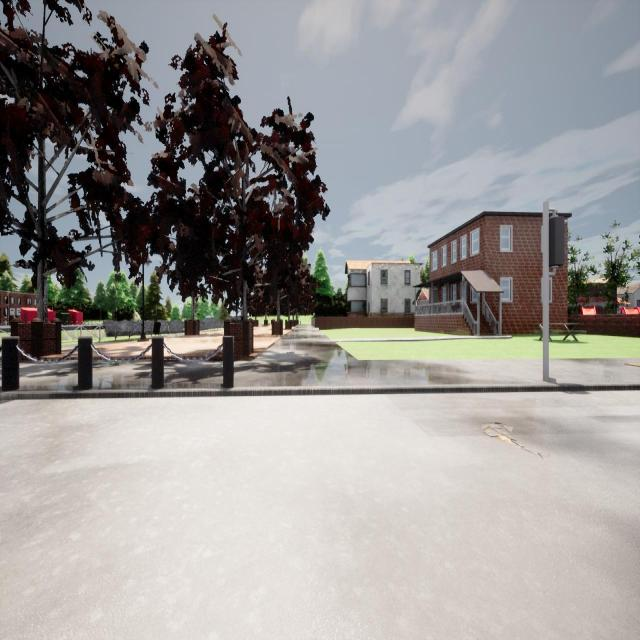traffic_light: (549, 216, 568, 268)
